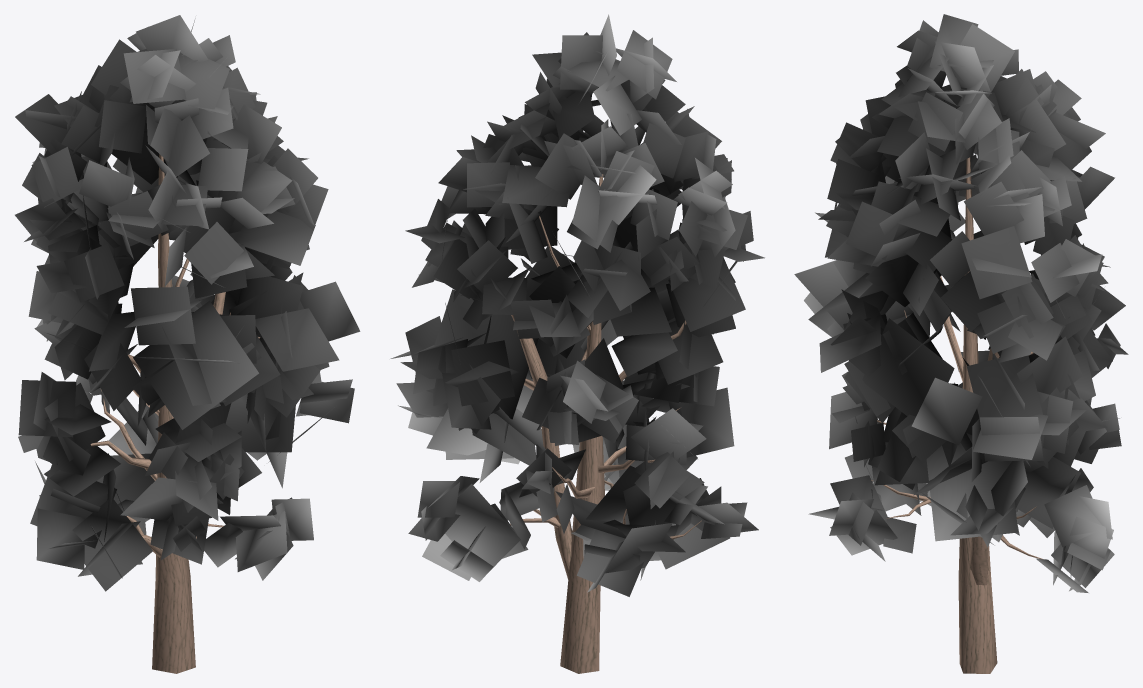
File: b_plant_tree_lod1_02.fbx
3 views of the same model, side by side, from view 1: azimuth 30°, elevation 25°; view 2: azimuth 150°, elevation 25°; view 3: azimuth 270°, elevation 25° (orthographic). The views are drawn at different scales.
Visible parts, largest first — view 1: b_plant_tree_lod1_02_02, b_plant_tree_lod1_02_01; view 2: b_plant_tree_lod1_02_02, b_plant_tree_lod1_02_01; view 3: b_plant_tree_lod1_02_02, b_plant_tree_lod1_02_01.
Part boxes in pixels (box(x1,y1,x2,y2)): b_plant_tree_lod1_02_02: box(15, 15, 360, 591); b_plant_tree_lod1_02_01: box(90, 154, 260, 673); b_plant_tree_lod1_02_02: box(390, 14, 764, 596); b_plant_tree_lod1_02_01: box(510, 174, 701, 673); b_plant_tree_lod1_02_02: box(794, 14, 1128, 592); b_plant_tree_lod1_02_01: box(871, 157, 1043, 673).
Size of the model in its own units: 7890 by 14471 by 6778.
